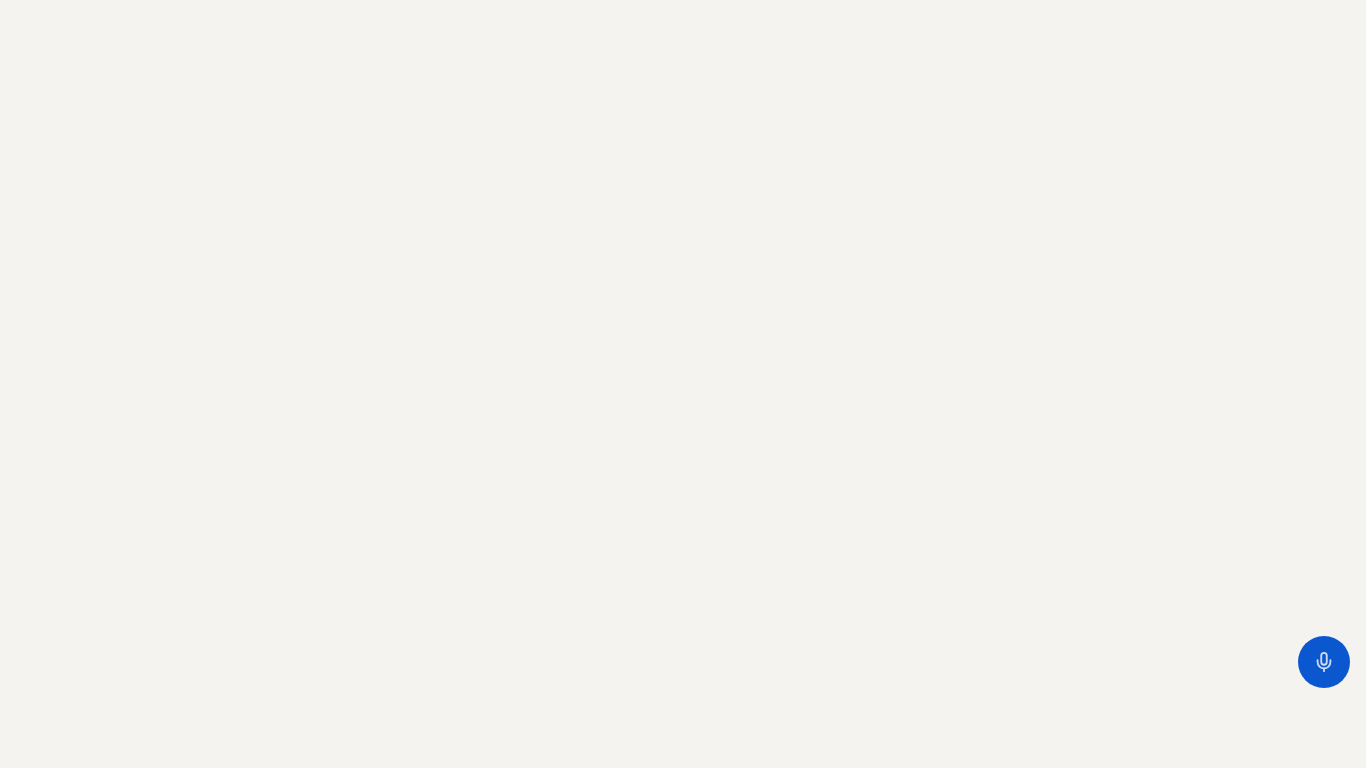
it: 自由に話す › 1つずつへ切り替えると、話す順の一覧は消える
Step 1. Click the button named "音声入力を開始" → [1324, 662], box [1298,636,1350,688]
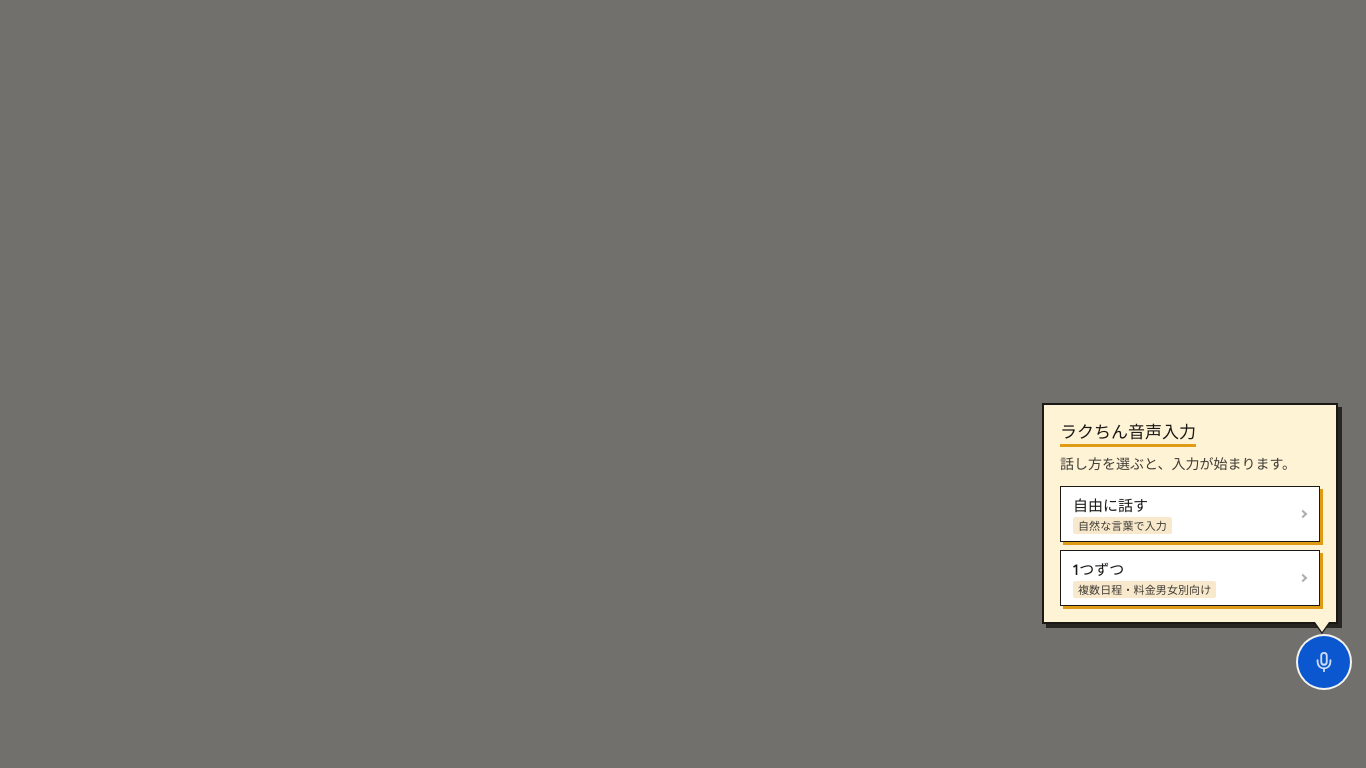
Step 2. Click the button "自由に話す 自然な言葉で入力" → [1111, 505], box [1060,486,1320,542]
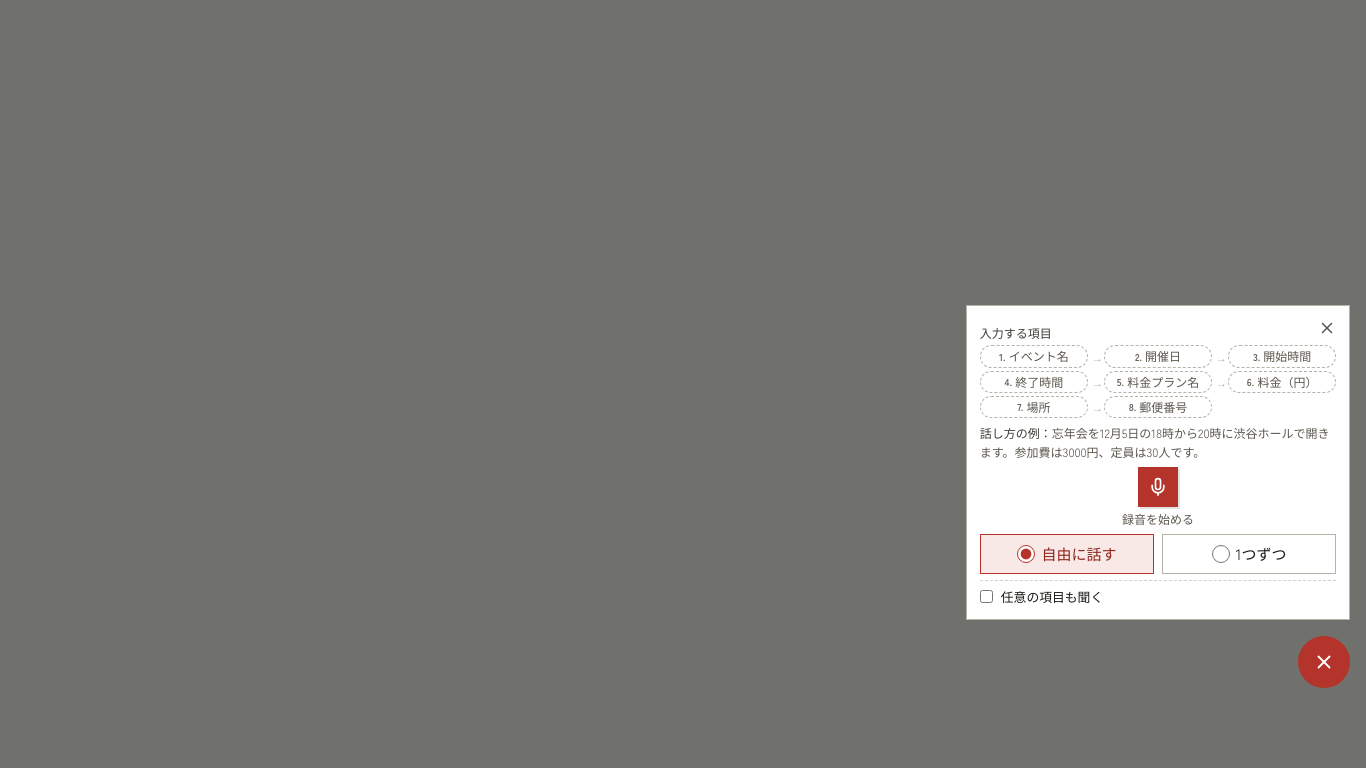
Expected: the list named "話す順" is shown, [980,346,1336,418]
Step 3. Click the radio button labelled "1つずつ" → [1221, 554], box [1212,545,1230,563]
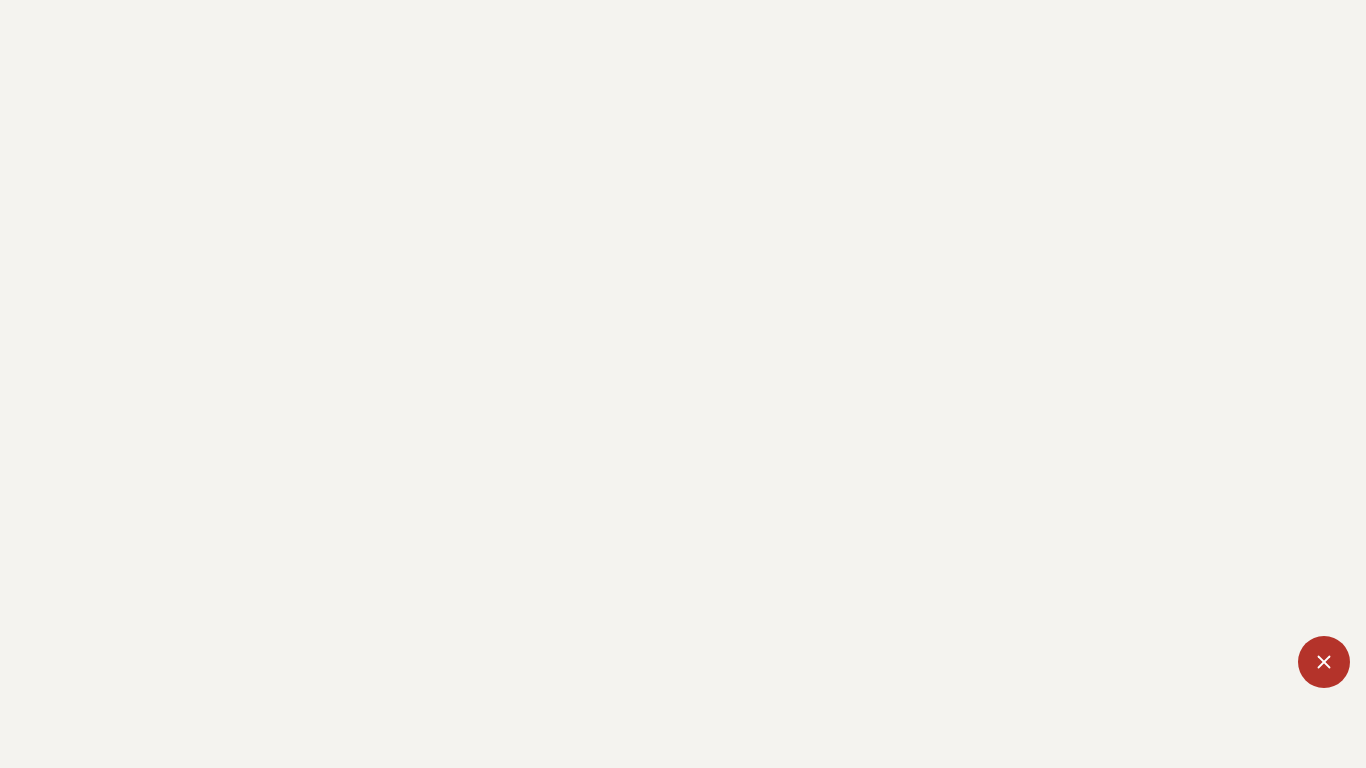
Expected: the list "話す順" is gone
Expected: the text "入力する項目" is gone
